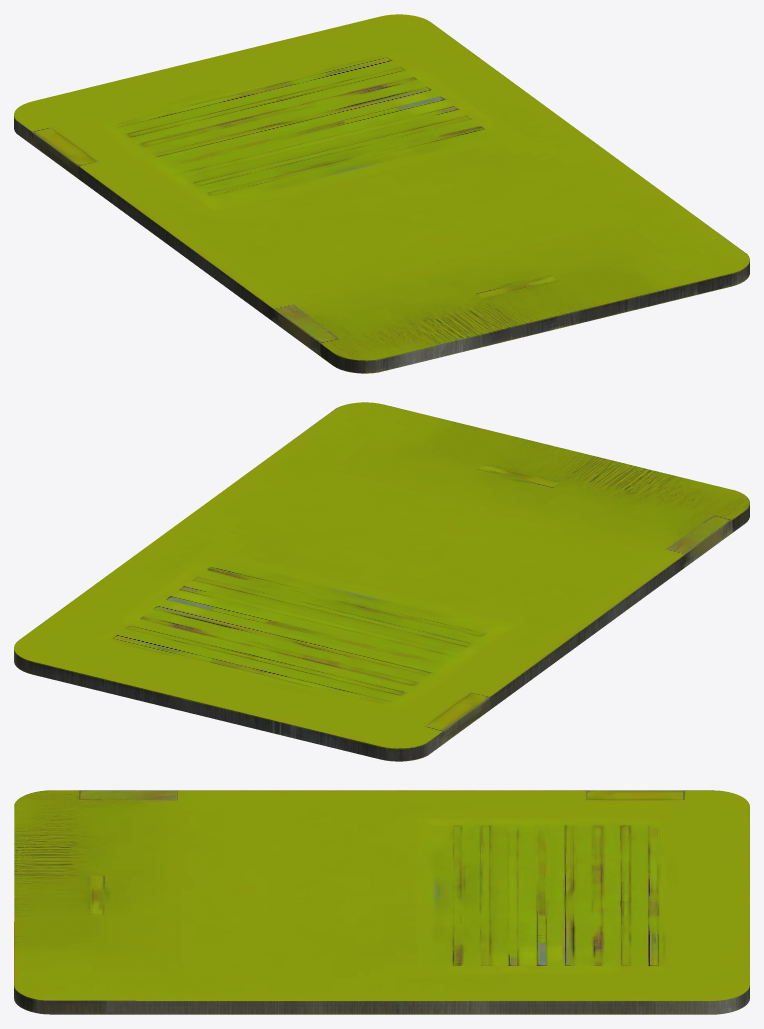
File: front_cover__cover_panel.glb
3 views of the same model, one above another, from view 1: azimuth 30°, elevation 25°; view 2: azimuth 150°, elevation 25°; view 3: azimuth 270°, elevation 25° (orthographic). The views are drawn at different scales.
Visible parts, largest first — view 1: geometry_0; view 2: geometry_0; view 3: geometry_0.
Boxes of the visible parts, x1=… form: geometry_0: x1=14, y1=14, x2=749, y2=373; geometry_0: x1=14, y1=402, x2=749, y2=761; geometry_0: x1=14, y1=790, x2=749, y2=1014.
Size of the model in its own units: 0.462 by 0.014 by 0.682.
1 material, 1 textured.
